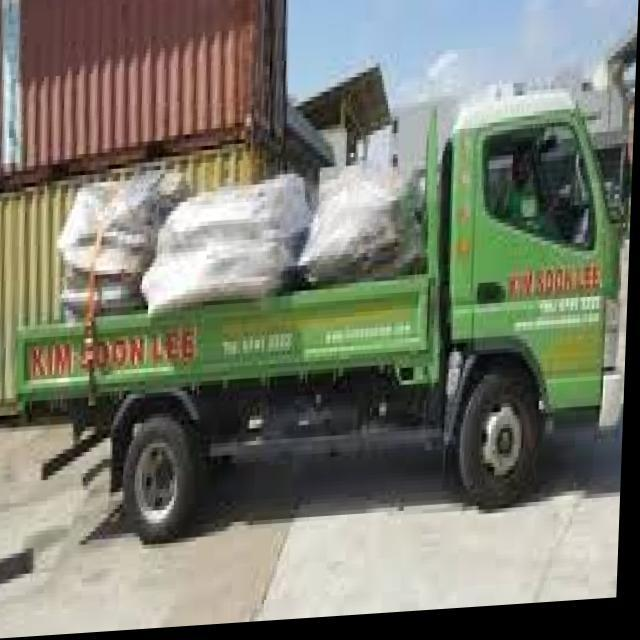uncovered: (19, 94, 634, 541)
